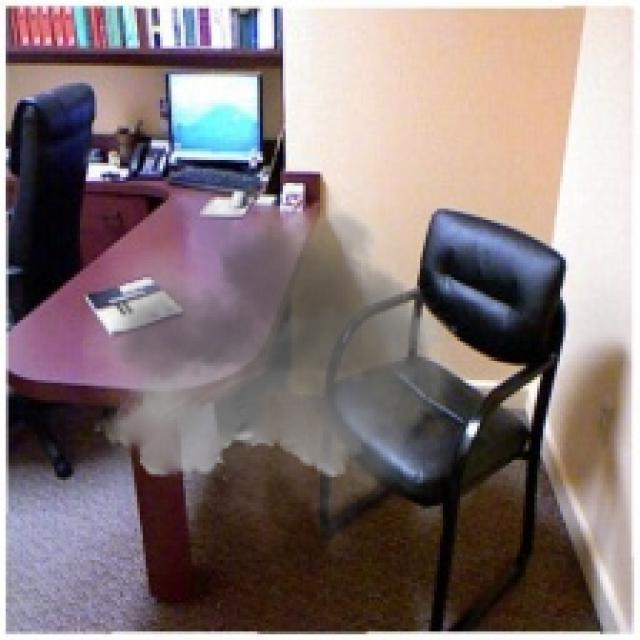Smoke: (80, 162, 472, 558)
